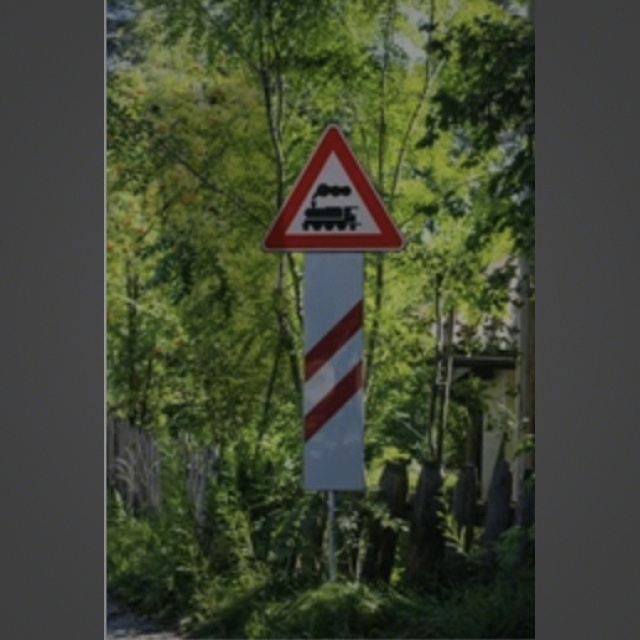Unguarded_Level_Crossing: (257, 116, 409, 256)
